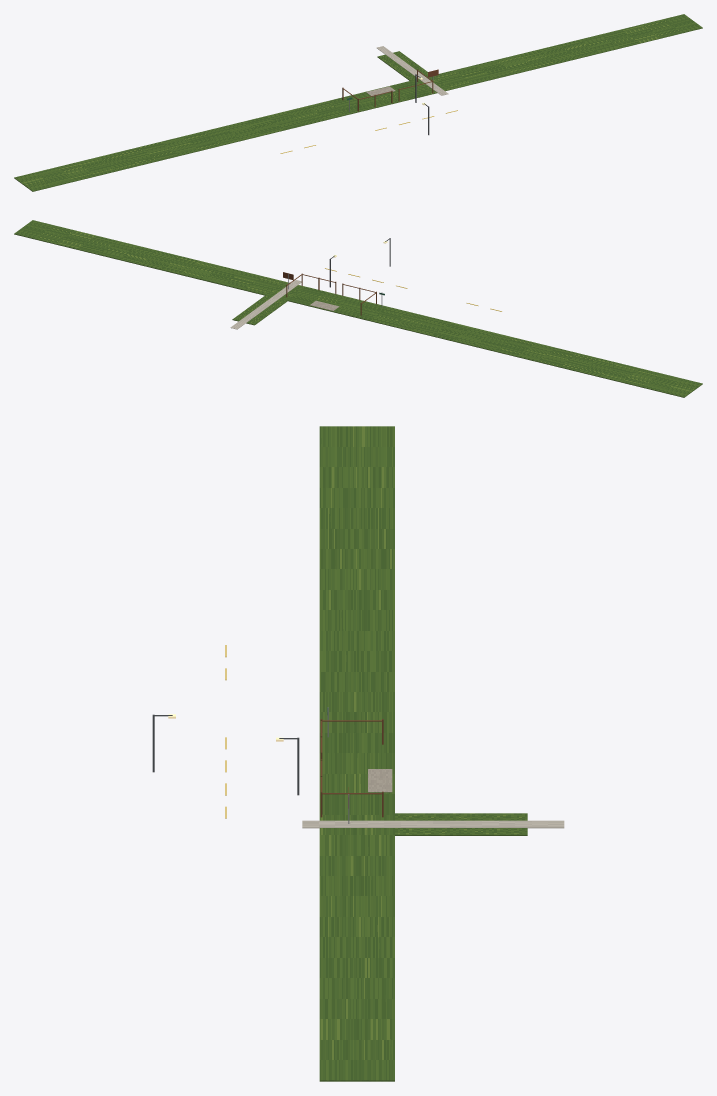
The model's file is structure.glb.
The picture shows the model from 3 angles, top to bottom: view 1: azimuth 30°, elevation 25°; view 2: azimuth 150°, elevation 25°; view 3: azimuth 270°, elevation 25°; orthographic projection. The views are drawn at different scales.
Visible parts, largest first — view 1: Box1, Box2, Box34; view 2: Box1, Box2, Box34; view 3: Box1, Box34, Box2.
Part boxes in pixels (x1,y1,x2,y2): Box1: (14, 14, 702, 191); Box2: (377, 51, 427, 80); Box34: (376, 46, 448, 95); Box1: (14, 220, 702, 397); Box2: (232, 295, 287, 325); Box34: (230, 280, 301, 329); Box1: (319, 426, 394, 1081); Box34: (302, 820, 564, 828); Box2: (395, 813, 527, 835).
Bounding box in the file's own units: 113 × 4.72 × 30.17.
Materials: 10 (3 with a texture image).
